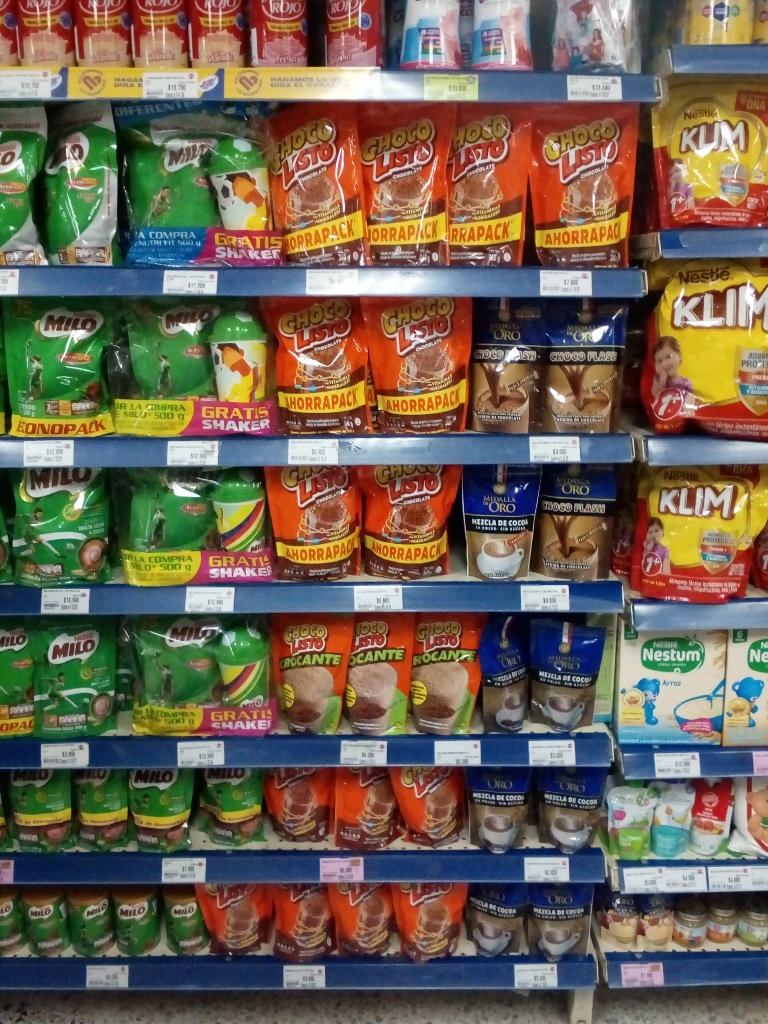COL0170102DYP25000: (261, 608, 352, 740)
COL0170103DYP20000: (264, 760, 336, 856)
COL0170103DYP36000: (258, 99, 371, 270)
COL0170203DYP25000: (27, 612, 121, 738)
COL0170203DYP50000: (113, 291, 217, 441)
COL0170203LAT20000: (16, 881, 70, 963)
COL0170205DYP50000: (0, 101, 42, 265)
